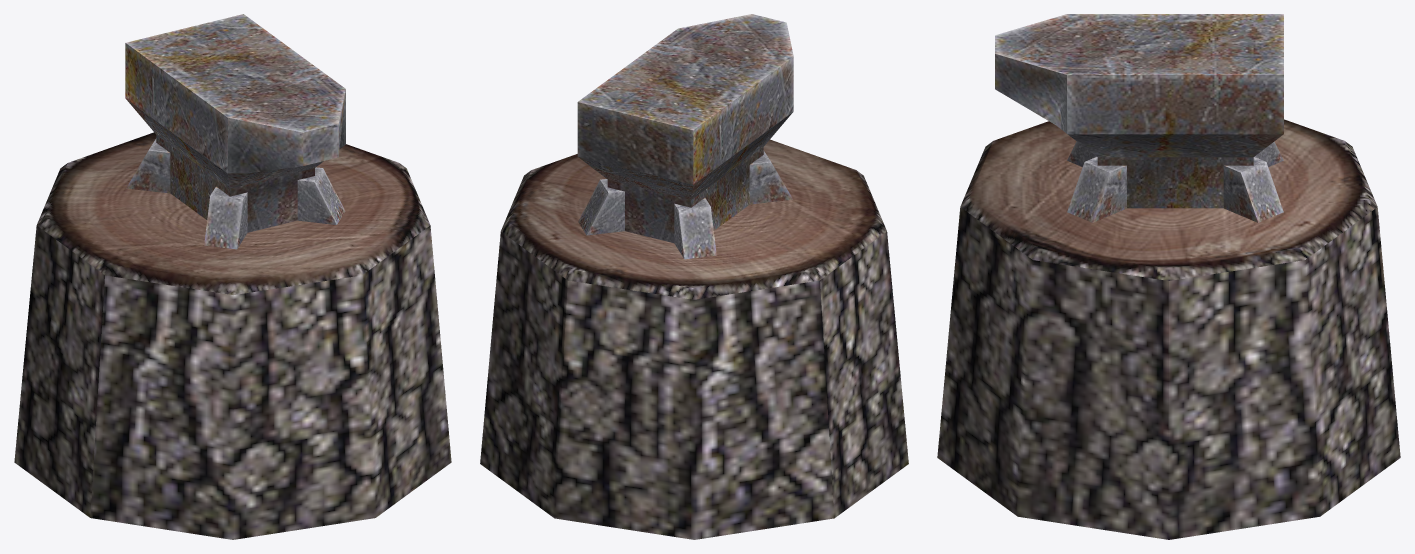
The model's file is Anvil_small.dae.
3 views of the same model, side by side, from view 1: azimuth 30°, elevation 25°; view 2: azimuth 150°, elevation 25°; view 3: azimuth 270°, elevation 25° (orthographic). The views are drawn at different scales.
Parts seen in each view (by area): view 1: Anvil_small; view 2: Anvil_small; view 3: Anvil_small.
Part boxes in pixels (bbox=[...]): Anvil_small: bbox=[14, 14, 451, 539]; Anvil_small: bbox=[480, 14, 908, 539]; Anvil_small: bbox=[937, 14, 1400, 539].
Bounding box in the file's own units: 0.7262 × 0.7008 × 0.7374.
1 material, 1 textured.
